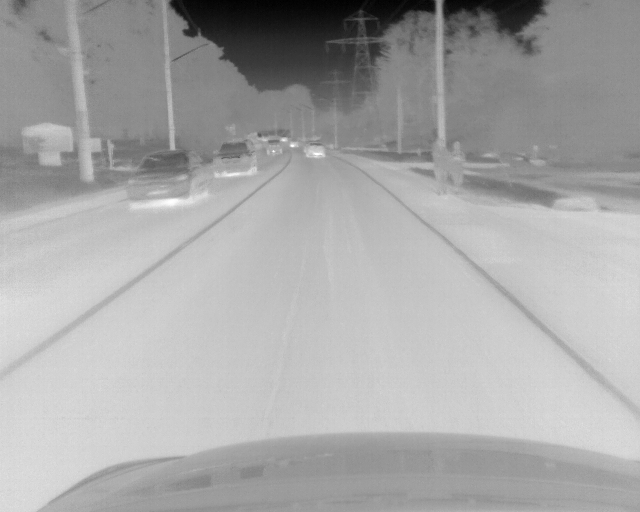car: (125, 149, 208, 203), (212, 140, 256, 178), (303, 141, 324, 159), (264, 142, 282, 158), (288, 139, 298, 149)
people: (448, 140, 468, 196), (430, 137, 448, 196)
